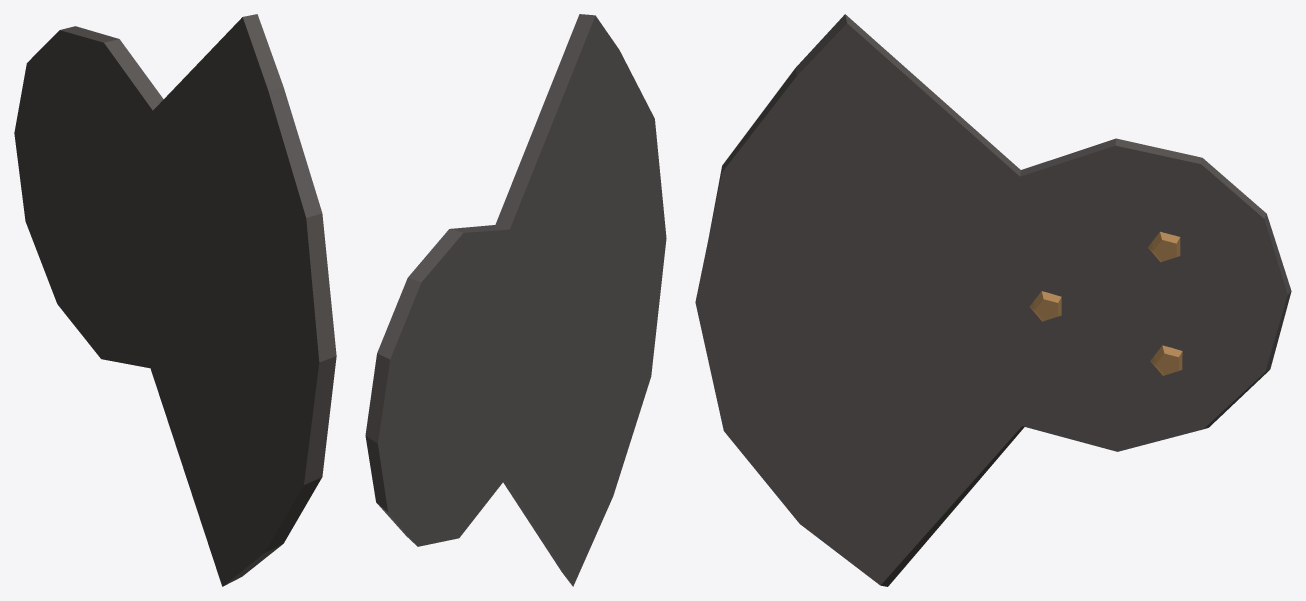
File: prop_obturador.fbx
3 renders of one model, left to right at view 1: azimuth 30°, elevation 25°; view 2: azimuth 150°, elevation 25°; view 3: azimuth 270°, elevation 25°, orthographic. The views are drawn at different scales.
Visible parts, largest first — view 1: Cylinder.066; view 2: Cylinder.066; view 3: Cylinder.066.
Boxes of the visible parts, x1,y1,x2,y2 form: Cylinder.066: (14, 14, 336, 586); Cylinder.066: (365, 14, 666, 586); Cylinder.066: (695, 14, 1291, 586).
Bounding box in the file's own units: 1.79 × 42.03 × 39.68.
